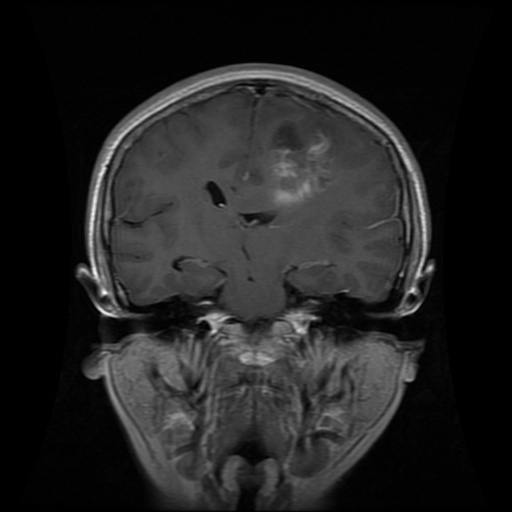glioma: (259, 116, 331, 211)
